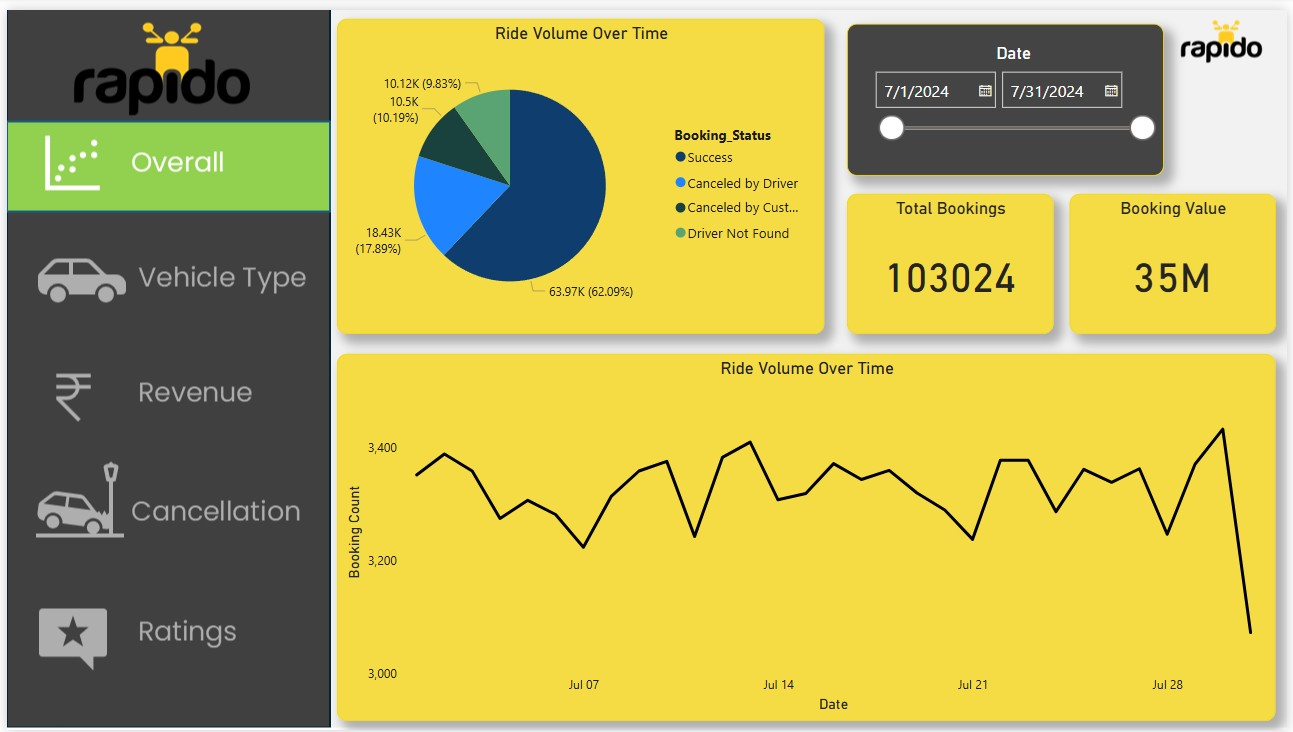

What the dashboard file says about the page in this screenshot:
{"tool":"powerbi","page":{"name":"Overall","canvas":[1280,720],"ordinal":0},"visuals":[{"type":"actionButton","box":[0,222,319.7,88.1],"z":0},{"type":"actionButton","box":[0,343.8,319.7,88.1],"z":1000},{"type":"actionButton","box":[0,457.2,319.7,88.1],"z":2000},{"type":"actionButton","box":[0,580.3,319.7,88.1],"z":3000},{"type":"lineChart","title":"Ride Volume Over Time","fields":{"Y":["CountNonNull(July.Booking_ID)"],"Category":["July.Date"]},"box":[330,343.8,938.8,367.5],"z":4000},{"type":"pieChart","title":"Ride Volume Over Time","fields":{"Category":["July.Booking_Status"],"Y":["CountNonNull(July.Booking_Status)"]},"box":[330,8.8,487.5,315],"z":5000},{"type":"slicer","title":"Date","fields":{"Values":["July.Date"]},"box":[839.8,13.7,317,152.3],"z":6000},{"type":"card","title":"Total Bookings","fields":{"Values":["CountNonNull(July.Booking_ID)"]},"box":[840,183.8,206.2,140],"z":7000},{"type":"card","title":"Booking Value","fields":{"Values":["Sum(July.Booking_Value)"]},"box":[1062.5,183.8,206.2,140],"z":8000}]}

Visuals, with their boxes in screenshot pixels (x1, y1, x2, y2), scaled from the page's 1280x720 canvas onto the 1293x732 screenshot:
actionButton: region(0, 226, 323, 315)
actionButton: region(0, 350, 323, 439)
actionButton: region(0, 465, 323, 554)
actionButton: region(0, 590, 323, 680)
"Ride Volume Over Time" lineChart: region(333, 350, 1282, 723)
"Ride Volume Over Time" pieChart: region(333, 9, 826, 329)
"Date" slicer: region(848, 14, 1169, 169)
"Total Bookings" card: region(849, 187, 1057, 329)
"Booking Value" card: region(1073, 187, 1282, 329)
